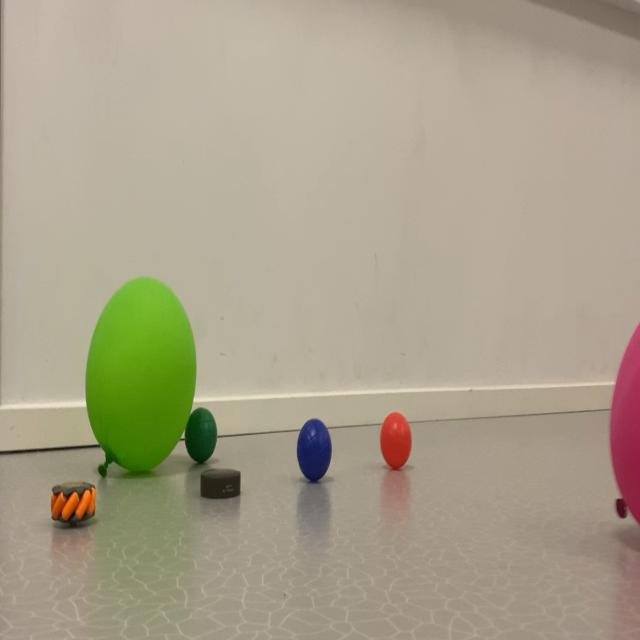7: (373, 382, 432, 502)
green ball: (293, 401, 343, 504)
red ball: (182, 379, 230, 472)
